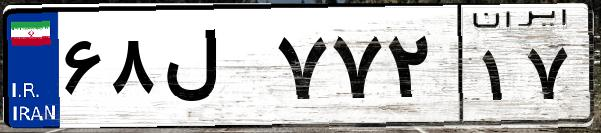1: (475, 38, 525, 113)
2: (385, 28, 445, 110)
6: (57, 26, 110, 100)
7: (270, 28, 330, 110), (330, 28, 385, 110), (525, 38, 570, 115)
8: (110, 28, 158, 98)
ل: (158, 20, 270, 120)
